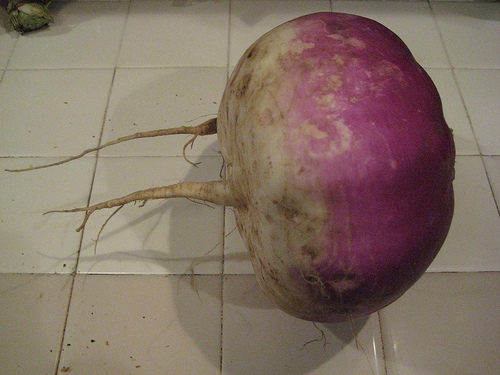turnip: (5, 10, 457, 322)
